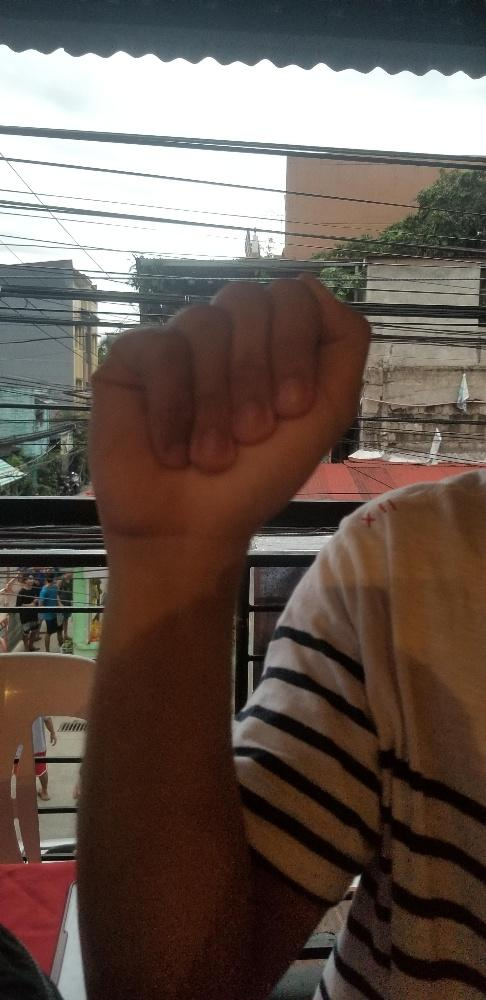a: (85, 270, 371, 530)
